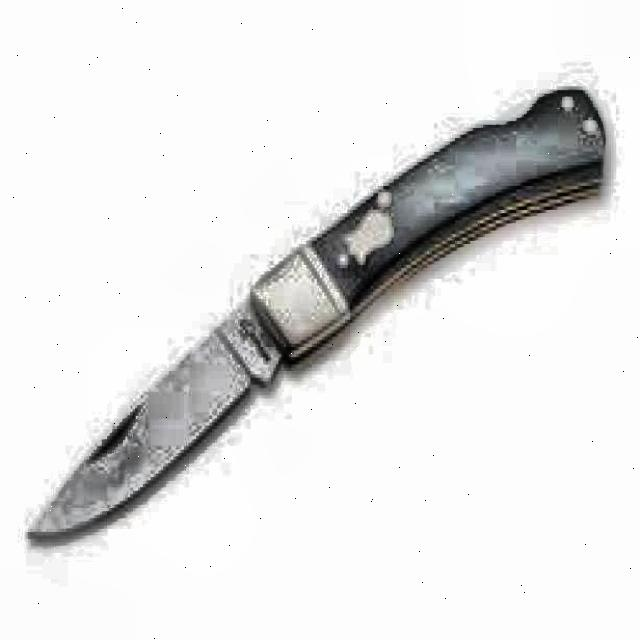knife: (21, 82, 610, 556)
